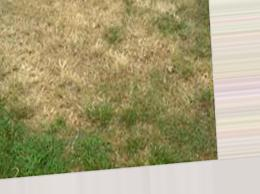patch: (1, 1, 165, 98), (38, 98, 80, 113), (184, 75, 208, 83), (84, 121, 99, 131)
